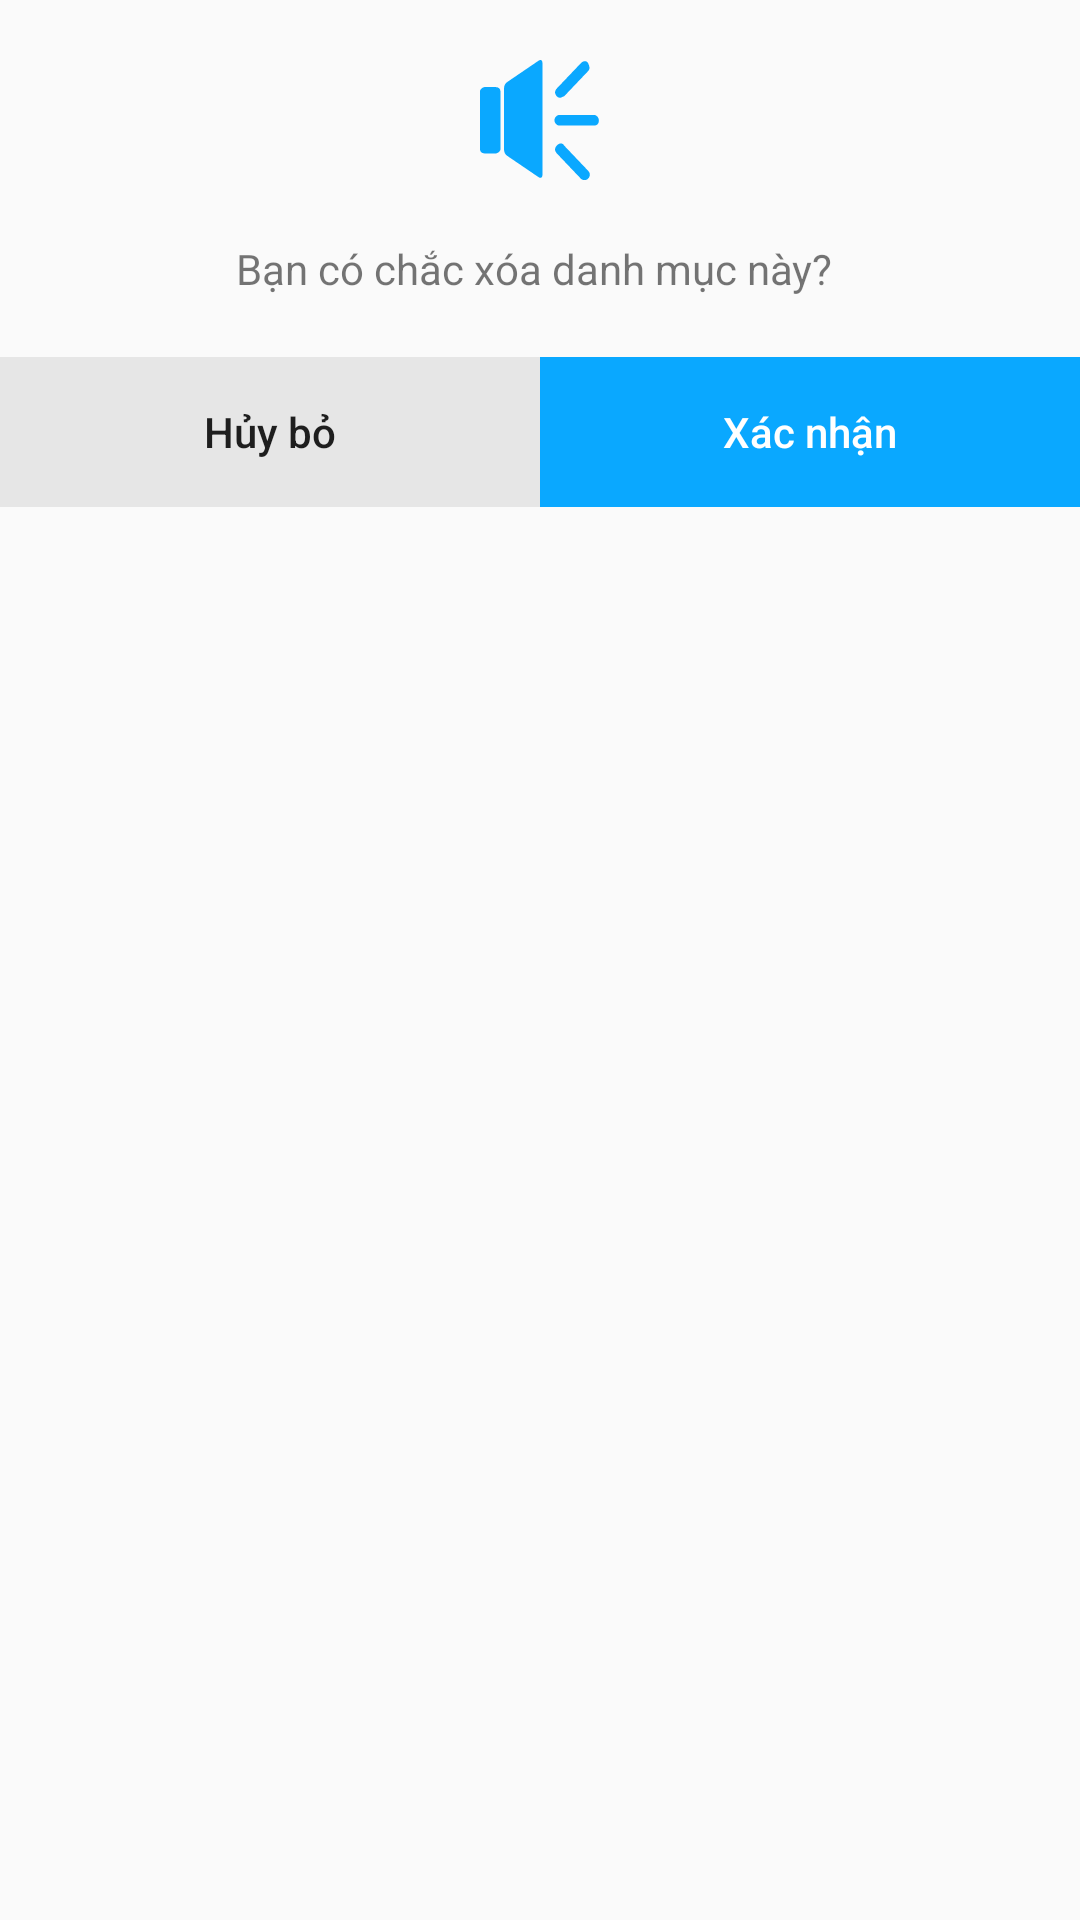

Icons on this 1080x1920 Android screen, each with its box as (x1, y1, x2, y2):
specker: (480, 60, 599, 180)
